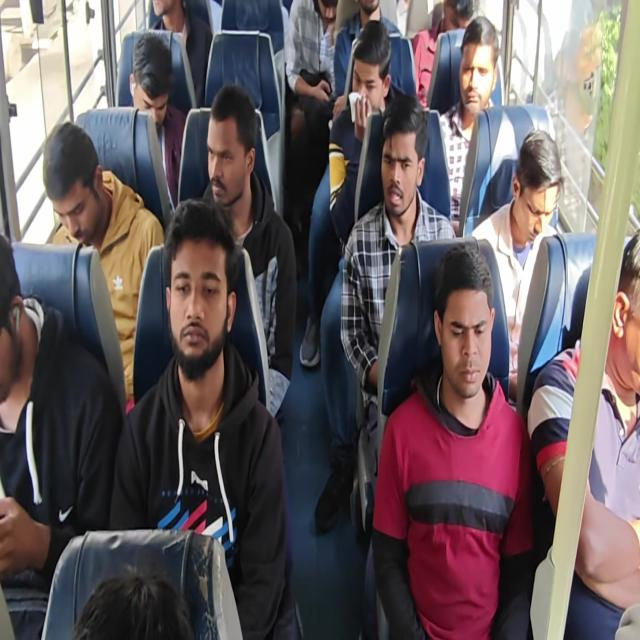person: (156, 180, 240, 380), (61, 560, 208, 640), (431, 227, 490, 418), (36, 108, 110, 259), (195, 80, 267, 210), (2, 224, 40, 439), (379, 93, 432, 236), (496, 130, 562, 237), (610, 225, 640, 411), (125, 24, 177, 125), (456, 16, 502, 118), (349, 23, 391, 128), (441, 0, 482, 30), (316, 1, 342, 27)
